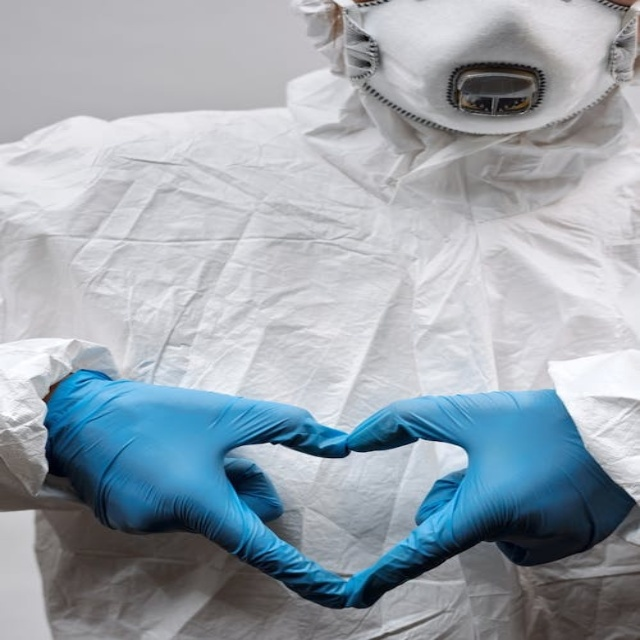Guantes: (38, 358, 347, 620), (351, 386, 632, 609)
Mascara: (329, 0, 635, 137)
